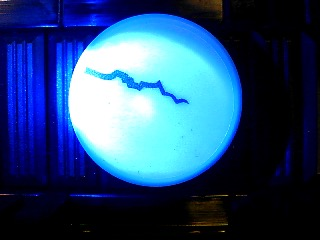CRACK: (68, 12, 243, 187)
